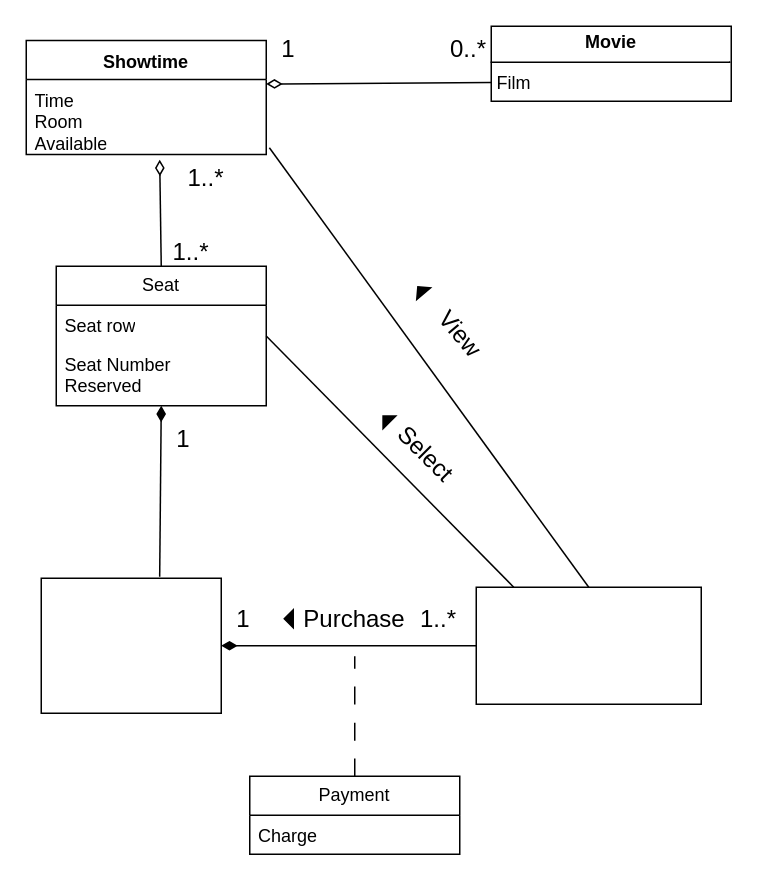
Some shapes in this 758 by 885 pixel diagram are drawn without their labels. Each missing label, with the centre of its shape:
"Customer Name Phonenumber Email" belongs at point (588, 645).
"Ticket TicketID Purchased: bool" belongs at point (130, 645).
